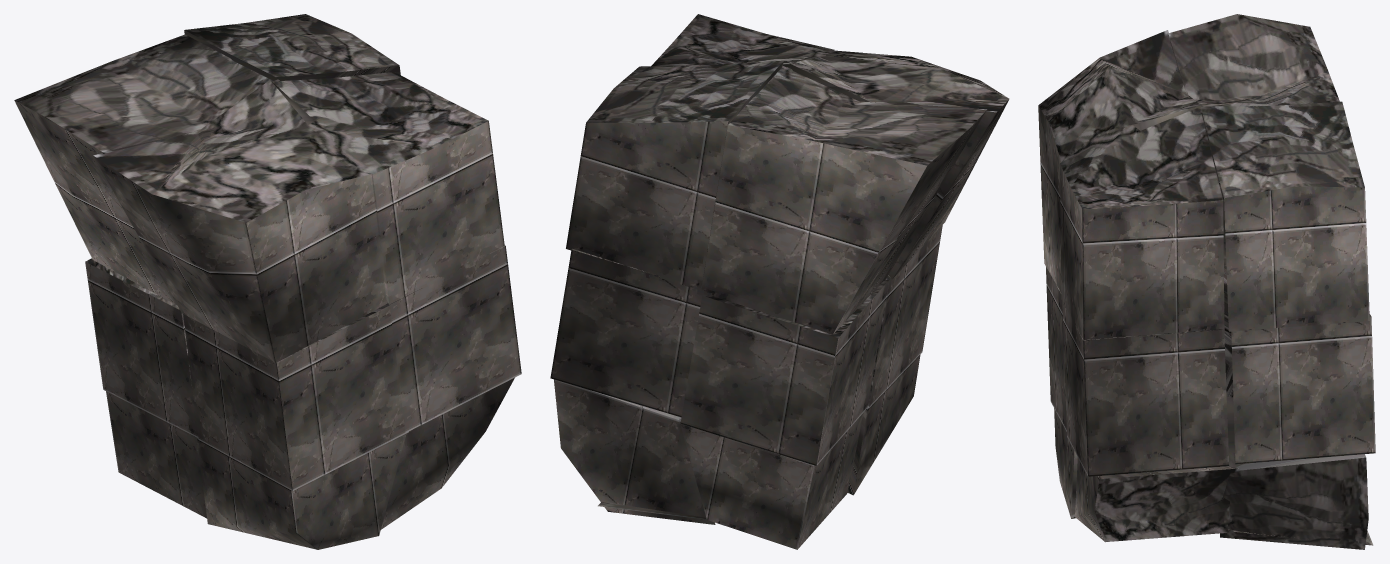
The model's file is INST_SM_DEBRIS_BLOCK_MEDIUMB_DESTROYED_DEBRISBLOCKMEDIUK__AI.obj.
The picture shows the model from 3 angles, left to right: view 1: azimuth 30°, elevation 25°; view 2: azimuth 150°, elevation 25°; view 3: azimuth 270°, elevation 25°; orthographic projection. The views are drawn at different scales.
Parts seen in each view (by area): view 1: BlockMediuk__AI; view 2: BlockMediuk__AI; view 3: BlockMediuk__AI.
Boxes of the visible parts, x1,y1,x2,y2 form: BlockMediuk__AI: (14,14,521,549); BlockMediuk__AI: (550,14,1009,549); BlockMediuk__AI: (1038,14,1375,549).
Bounding box in the file's own units: 460 × 473 × 355.
